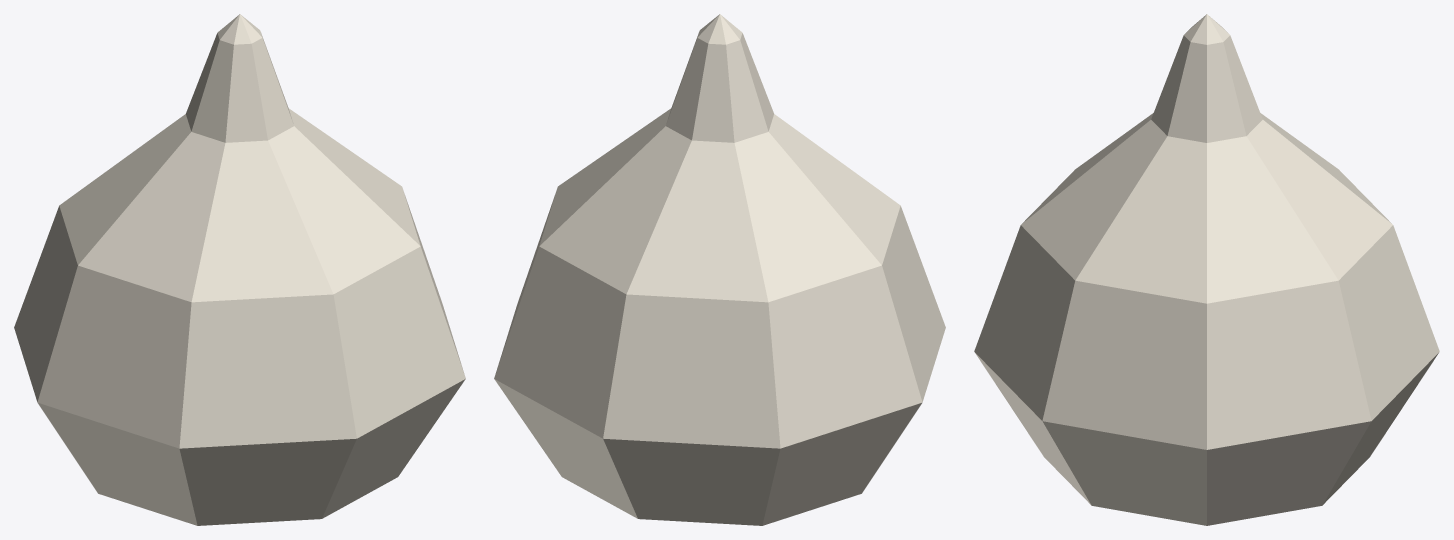
Rendered from Garlic.fbx.
3 views of the same model, side by side, from view 1: azimuth 30°, elevation 25°; view 2: azimuth 150°, elevation 25°; view 3: azimuth 270°, elevation 25° (orthographic).
Parts seen in each view (by area): view 1: Garlic; view 2: Garlic; view 3: Garlic.
Part boxes in pixels (bbox=[...]): Garlic: bbox=[14, 14, 465, 525]; Garlic: bbox=[494, 14, 945, 525]; Garlic: bbox=[974, 14, 1439, 525].
Size of the model in its own units: 1 by 1.1 by 1.
Materials: 1 (1 with a texture image).
